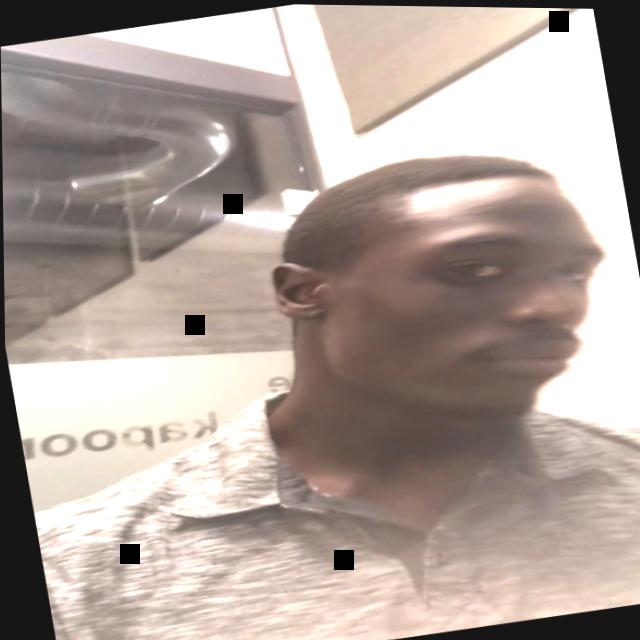NO-Mask: (303, 173, 629, 445)
